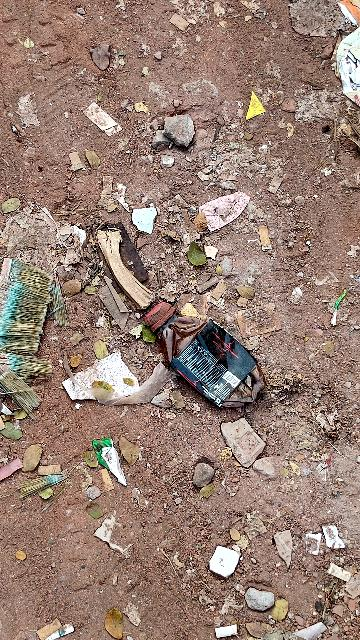bottle: (130, 291, 276, 424)
